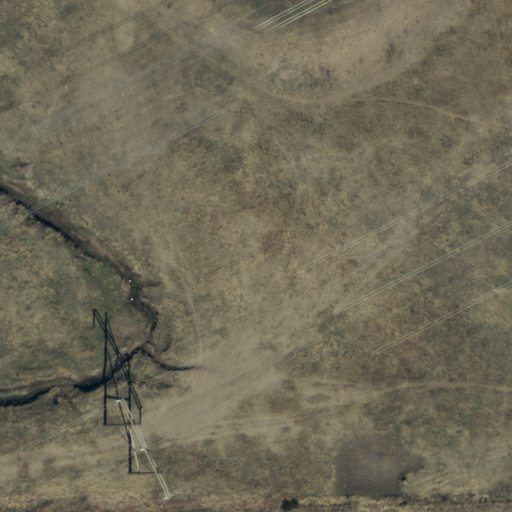TT: (99, 392, 177, 504)
